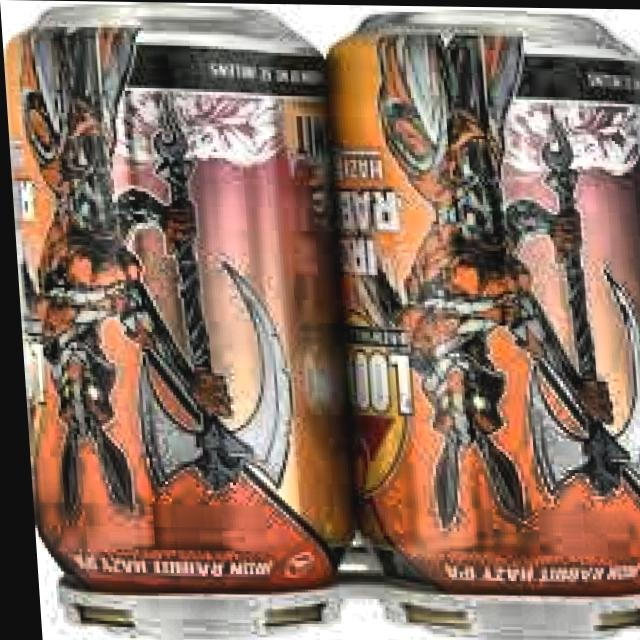can: (0, 0, 357, 639), (321, 4, 640, 640)
